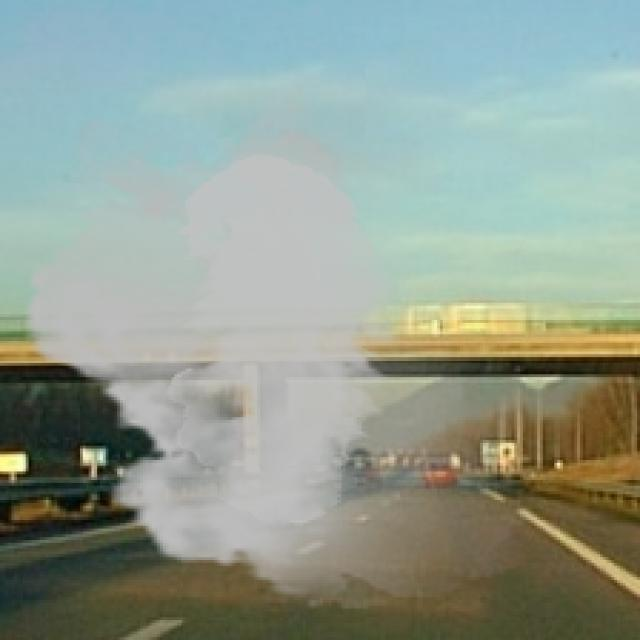Smoke: (2, 86, 552, 608)
